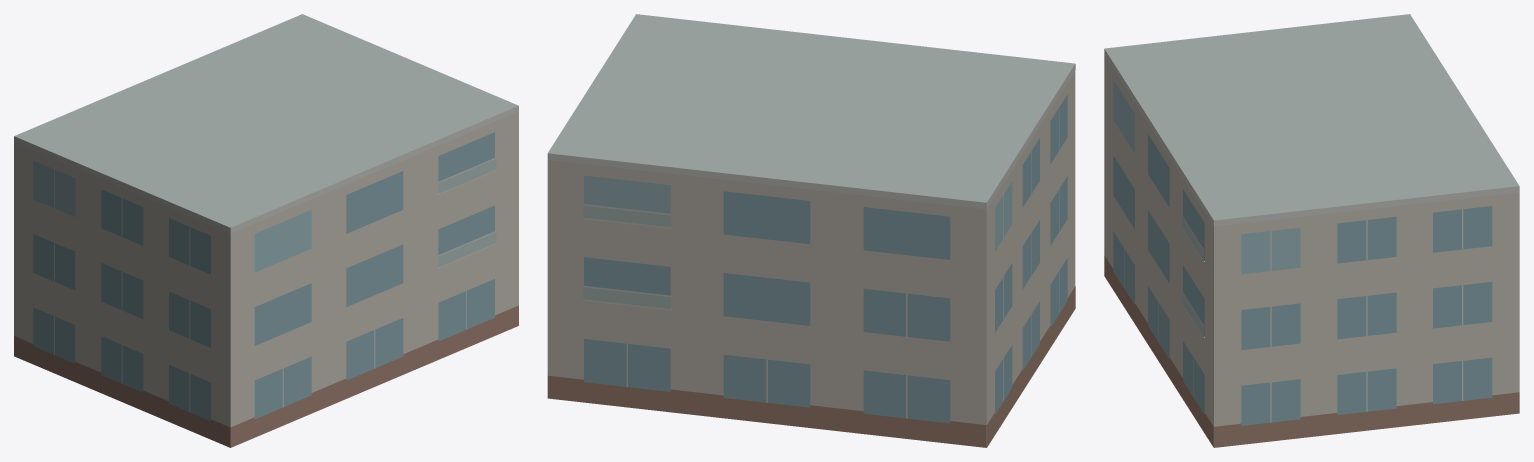
Rendered from survey-upis-32890609.glb.
3 renders of one model, left to right at view 1: azimuth 30°, elevation 25°; view 2: azimuth 150°, elevation 25°; view 3: azimuth 270°, elevation 25°, orthographic. The views are drawn at different scales.
Parts seen in each view (by area): view 1: survey-upis-32890609.tmp; view 2: survey-upis-32890609.tmp; view 3: survey-upis-32890609.tmp.
Part boxes in pixels (bbox=[...]): survey-upis-32890609.tmp: bbox=[14, 14, 518, 447]; survey-upis-32890609.tmp: bbox=[547, 14, 1075, 447]; survey-upis-32890609.tmp: bbox=[1104, 14, 1519, 447].
Bounding box in the file's own units: 17.84 × 9.15 × 15.16.
